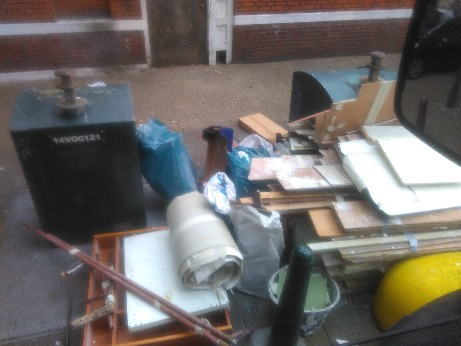Container: (22, 77, 151, 229)
Rest: (279, 121, 402, 284), (83, 237, 231, 346), (370, 90, 440, 262), (214, 136, 272, 241), (269, 259, 346, 328), (243, 185, 284, 301), (177, 207, 238, 284), (152, 123, 206, 199), (258, 108, 299, 164)
